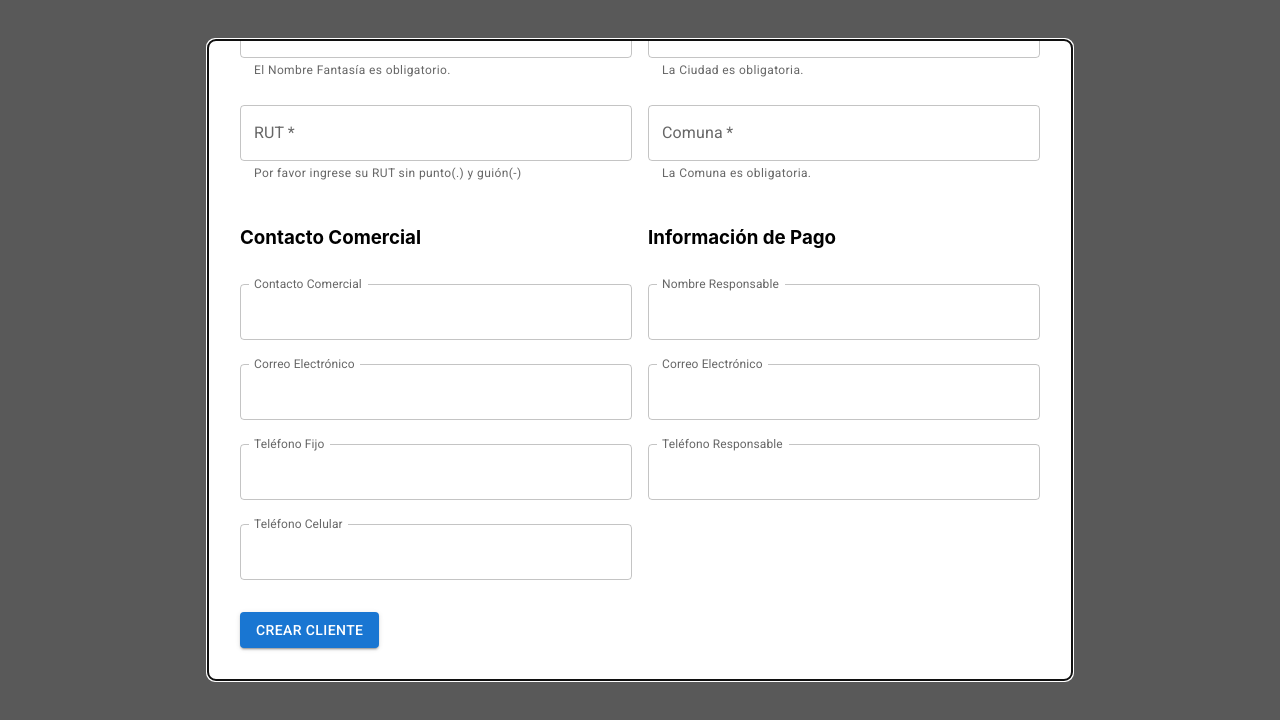
Test: ClienteFormModal › muestra errores al enviar el formulario vacío
(page scrolled)
# Simula envío sin llenar campos
Click the button "Crear Cliente": (310, 630) top-left (240, 612), bottom-right (379, 648)
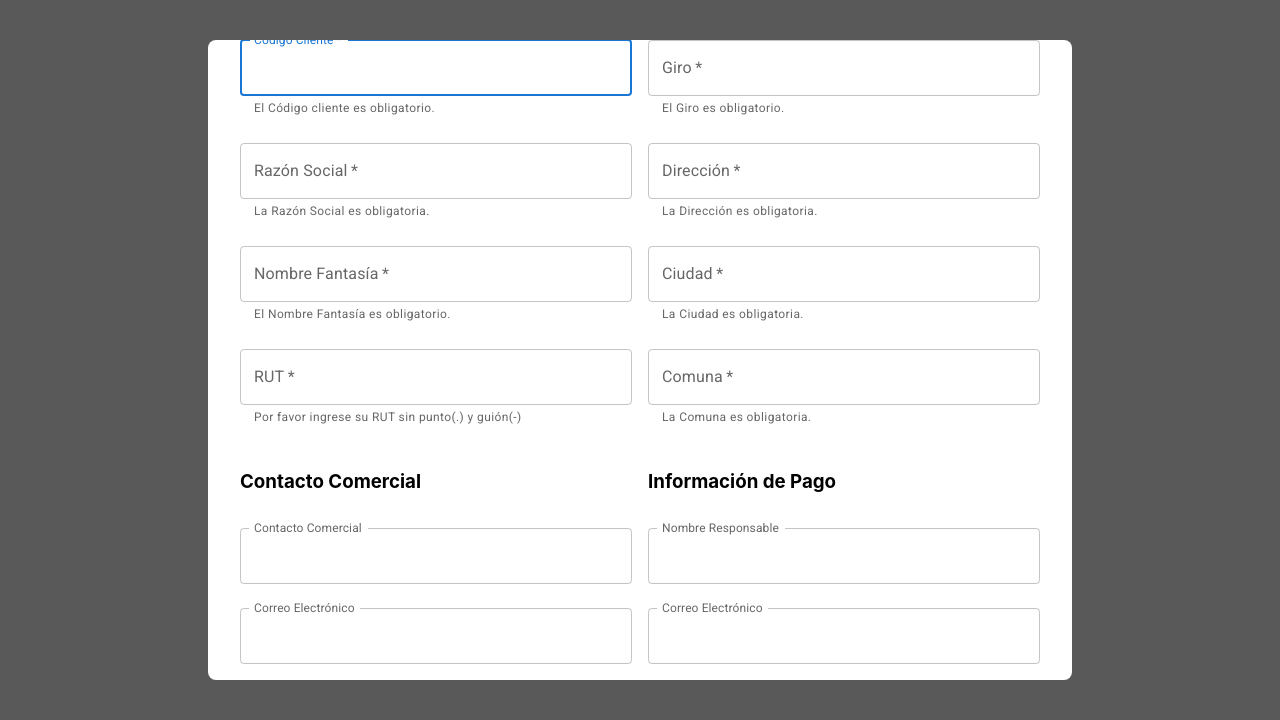
Expected: the text "El Código cliente es obligatorio." is shown, top-left (254, 101), bottom-right (435, 115)
